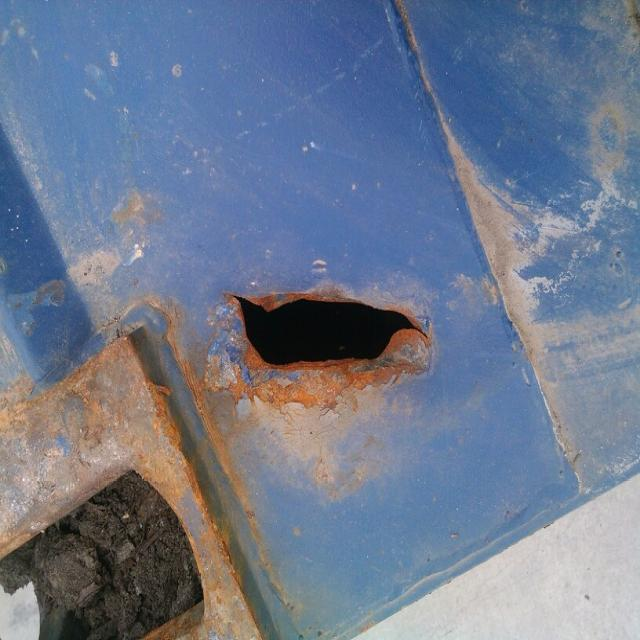hole: (223, 280, 444, 407)
